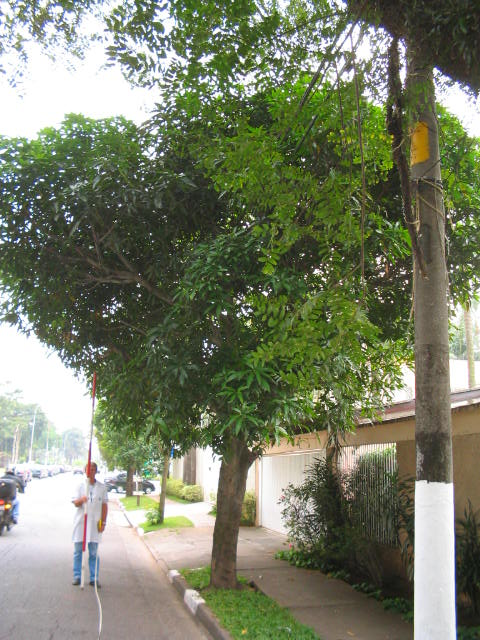crown: (3, 80, 464, 465)
stem: (201, 455, 256, 590)
stick: (70, 372, 110, 589)
tree: (1, 80, 466, 593)
